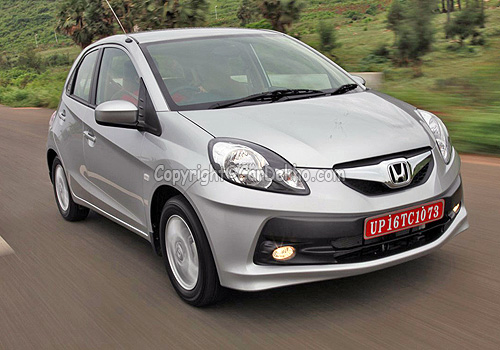car: (35, 22, 474, 316)
